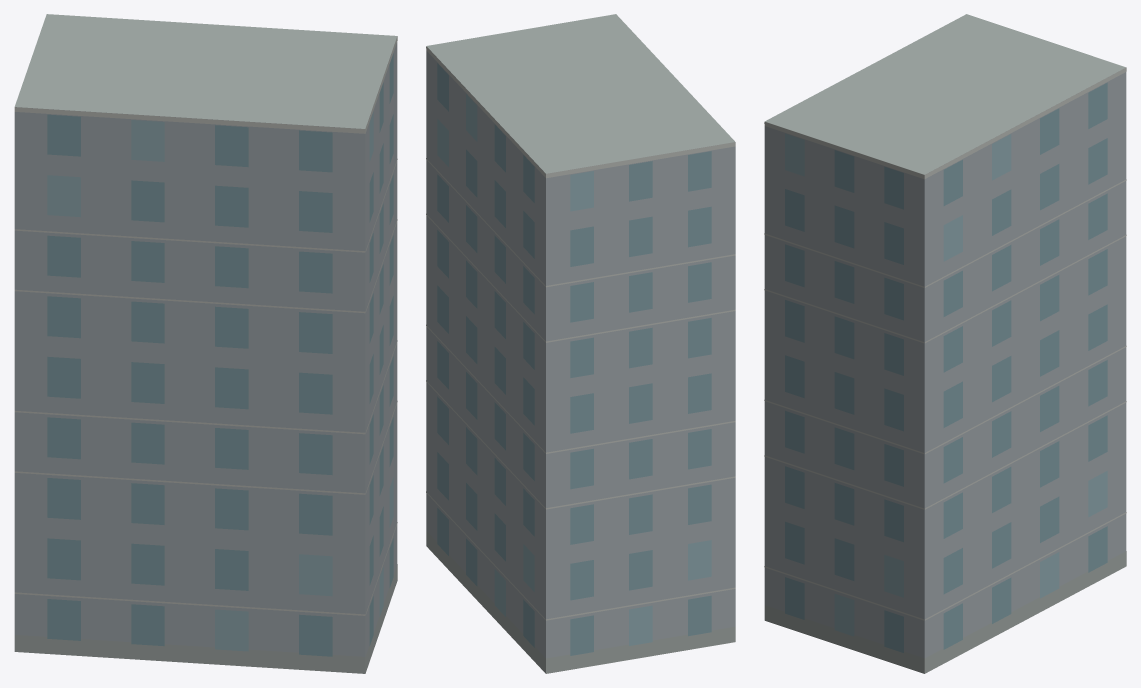
File: survey-upis-32561103.glb
3 renders of one model, left to right at view 1: azimuth 30°, elevation 25°; view 2: azimuth 150°, elevation 25°; view 3: azimuth 270°, elevation 25°, orthographic. The views are drawn at different scales.
Parts seen in each view (by area): view 1: survey-upis-32561103.tmp; view 2: survey-upis-32561103.tmp; view 3: survey-upis-32561103.tmp.
Boxes of the visible parts, left/top/right/bottom form: survey-upis-32561103.tmp: left=14, top=14, right=397, bottom=673; survey-upis-32561103.tmp: left=426, top=14, right=735, bottom=673; survey-upis-32561103.tmp: left=764, top=14, right=1126, bottom=673.
Bounding box in the file's own units: 19 × 27.45 × 18.06.
